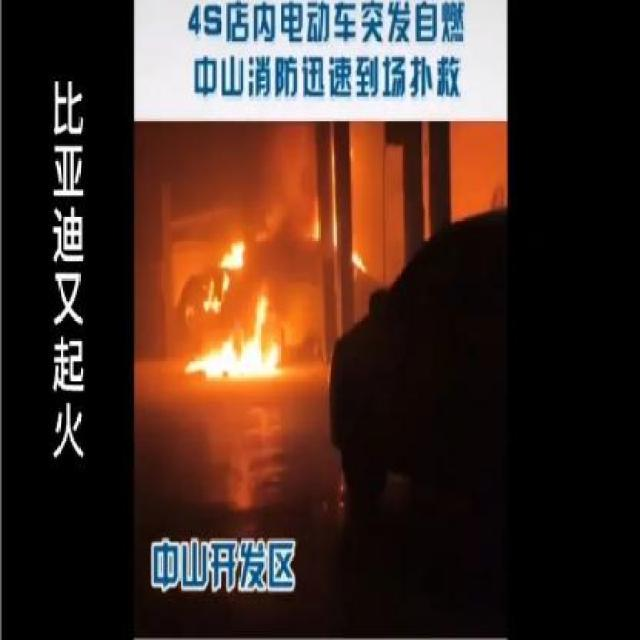Fire: (187, 334, 284, 378), (205, 274, 228, 312), (221, 237, 244, 268), (350, 244, 364, 270)
Smoke: (259, 124, 316, 241)
